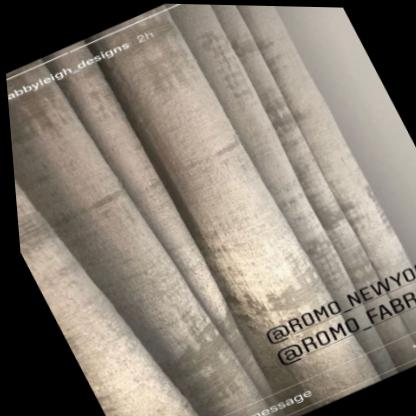Curtains: (5, 3, 416, 416)
